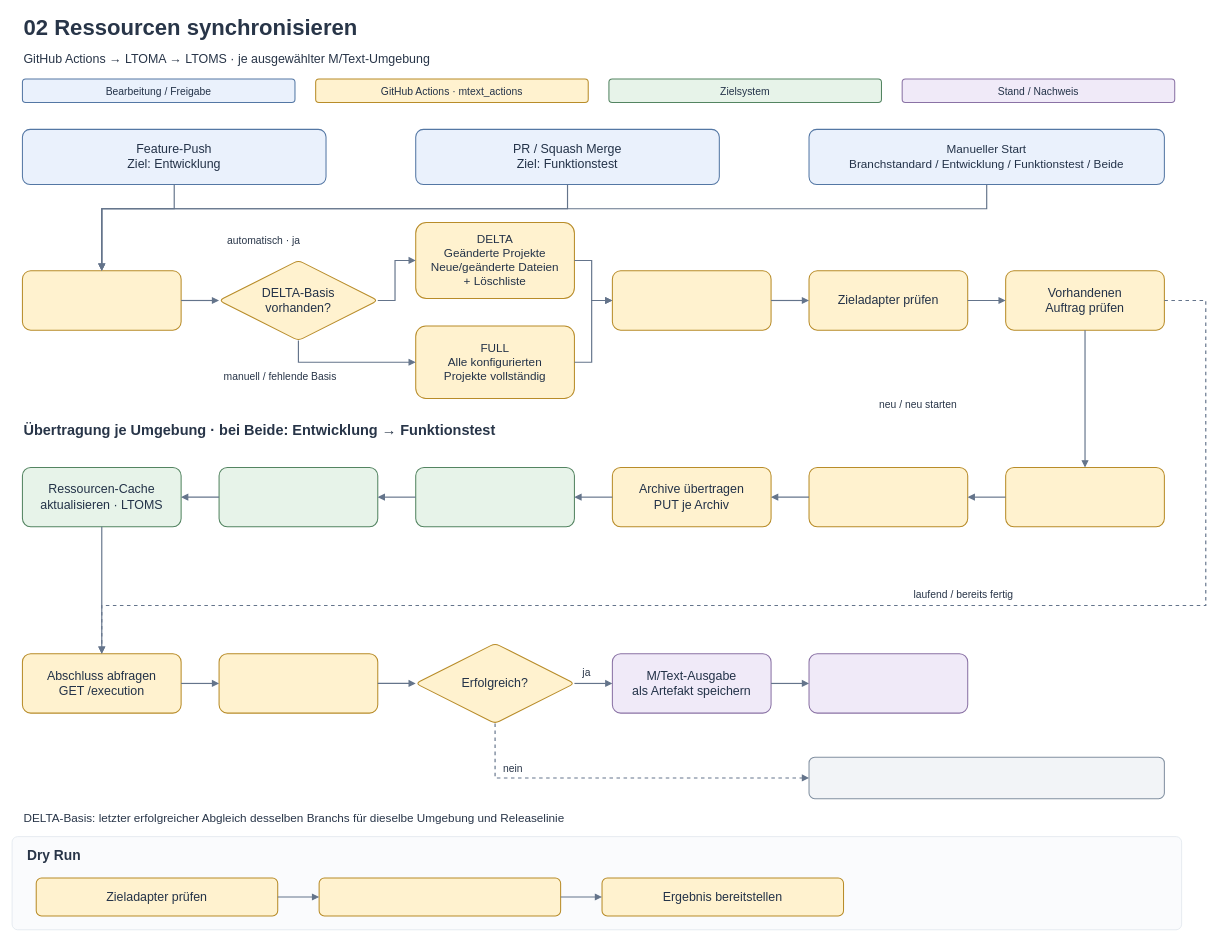
Some shapes in this 1224 by 942 pixel diagram are drawn without their labels. The centre of each missing label's shape, as x and y in pixels:
"Auftrag anmelden POST" belongs at pixel 888 497.
"Auftrag aufräumen DELETE" belongs at pixel 298 683.
"Fehler im Lauf melden" belongs at pixel 986 777.
"FULL-Archive bauen" belongs at pixel 439 896.
"Projektarchive bauen" belongs at pixel 1085 497.
"Prüfsummen prüfen" belongs at pixel 495 497.
"Ressourcen prüfen" belongs at pixel 691 300.
"serverSync aktualisieren Mandanten-Lock" belongs at pixel 298 497.
"Stand und Ziel ermitteln" belongs at pixel 101 300.
"Vergleichsstand als Nachweis speichern" belongs at pixel 888 683.
